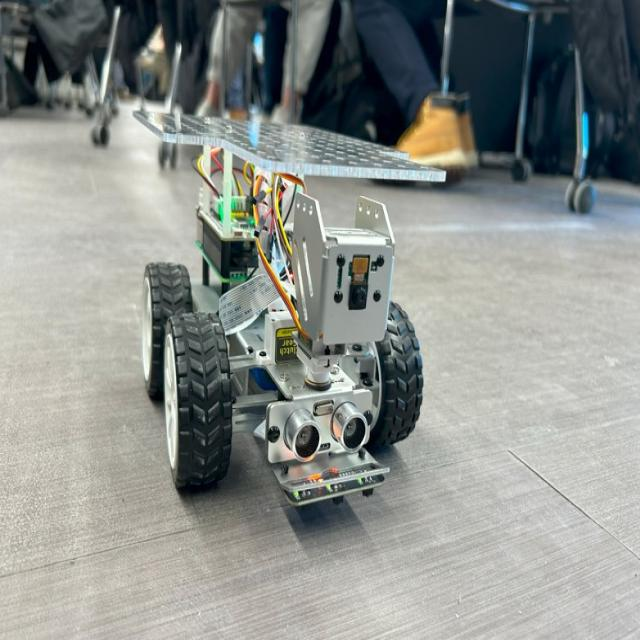vehicle: (95, 70, 469, 553)
